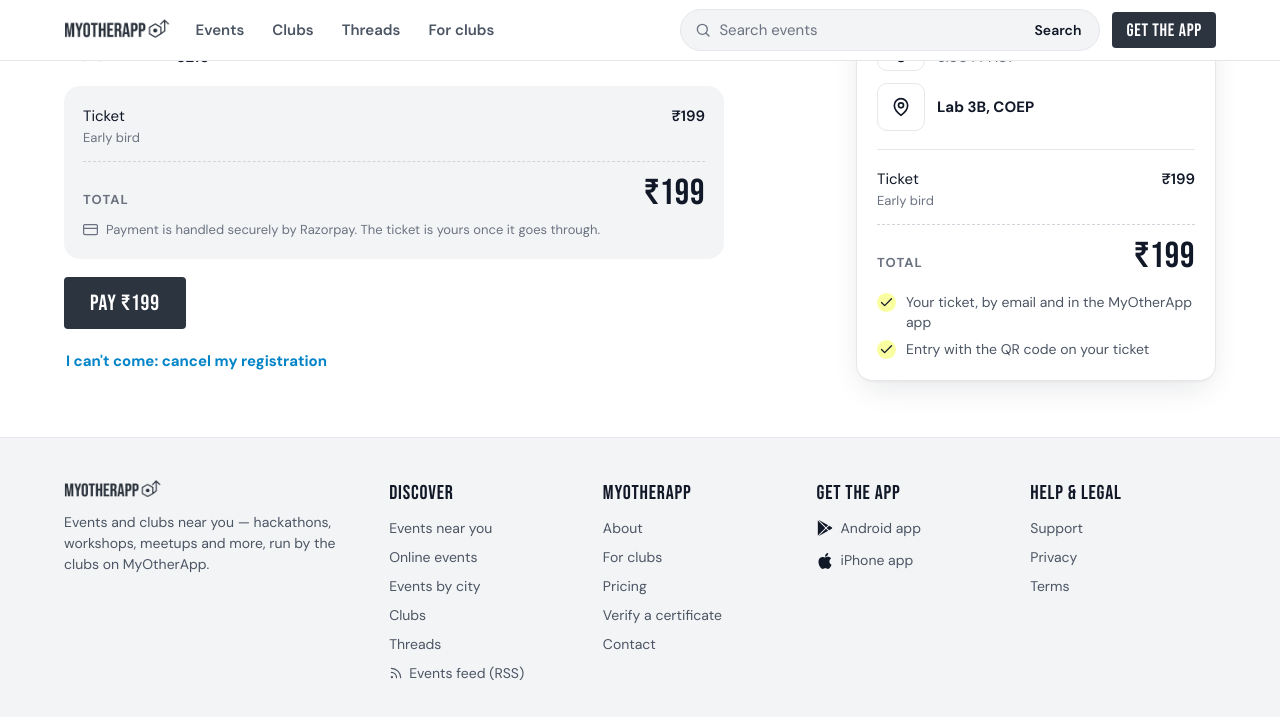
a registration the club confirmed (registration approval) › cancelling the registration asks first
The image size is (1280, 717).
(page scrolled)
Click the button "I can't come: cancel my registration": click(196, 361) x1=64 y1=341 x2=329 y2=381
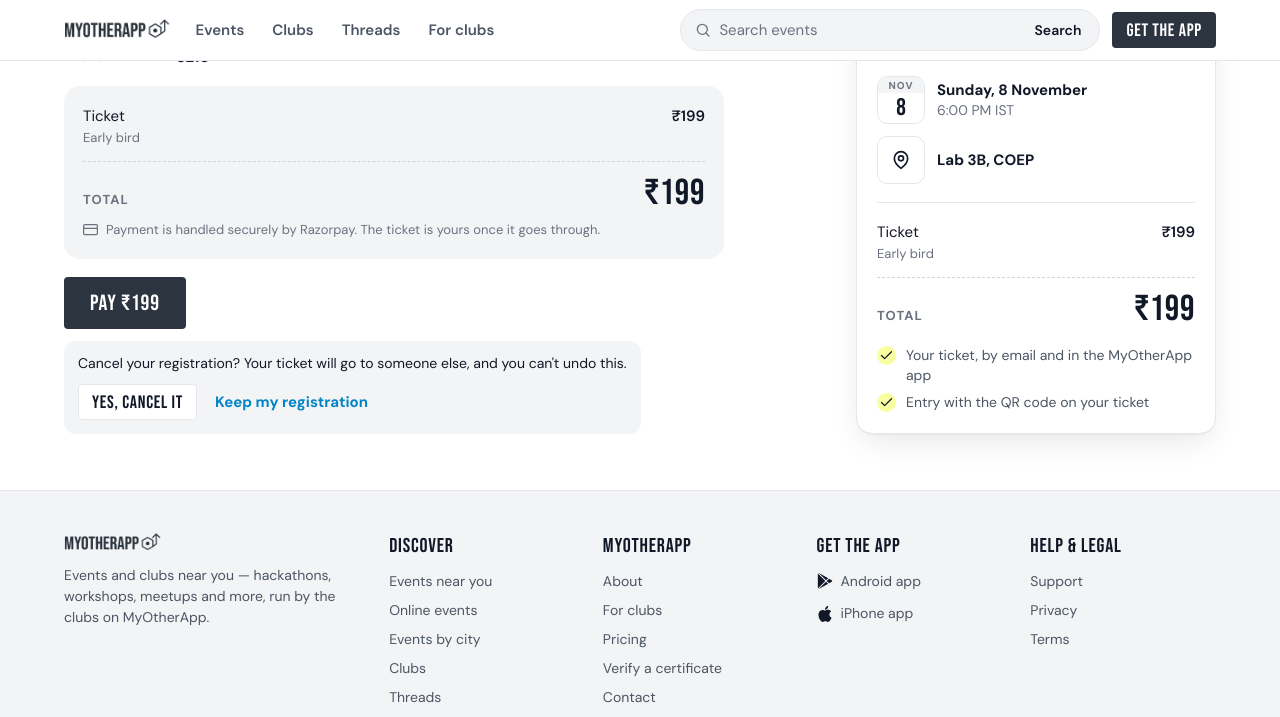
Result: the element "Cancel your registration" shows "Cancel your registration? Your ticket will go to someone else, and you can't undo this." at x1=78 y1=354 x2=627 y2=372
Result: the button "Keep my registration" is shown at x1=213 y1=382 x2=370 y2=422
Click the button "Yes, cancel it": click(138, 402) x1=78 y1=384 x2=197 y2=420
(page scrolled)
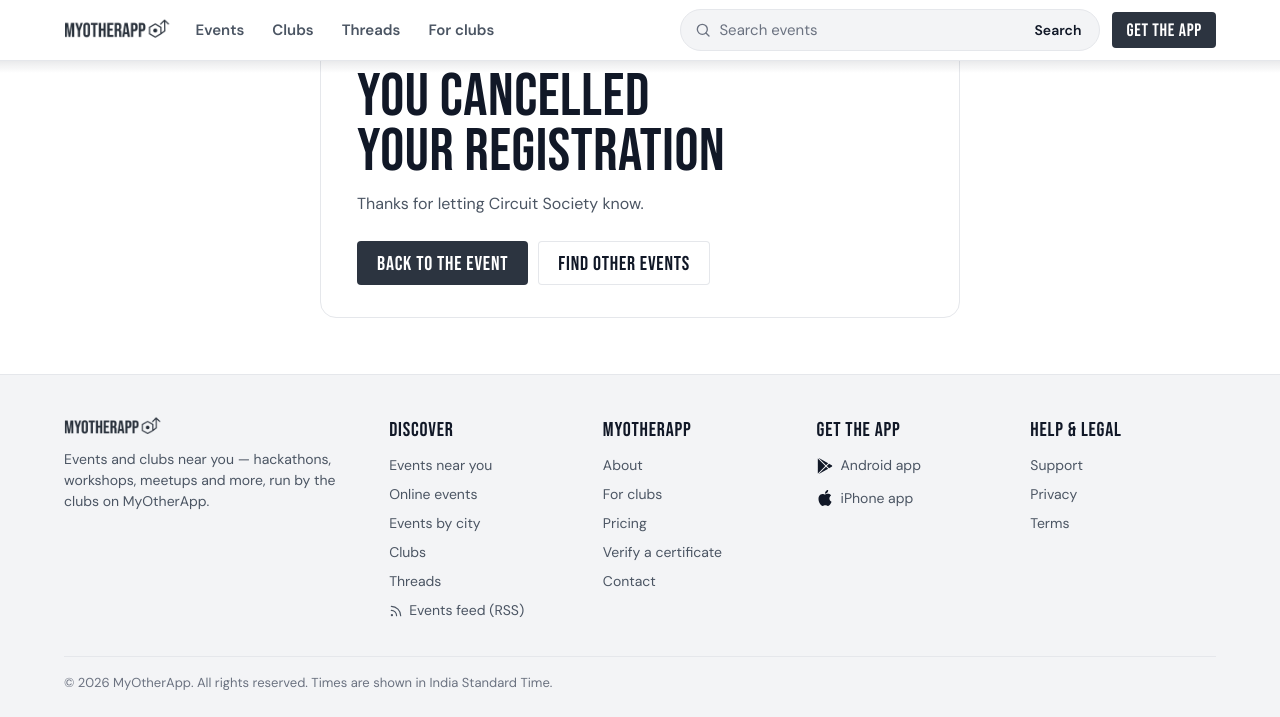
Result: the heading "You cancelled your registration" is shown at x1=357 y1=61 x2=725 y2=188
Result: the text "Thanks for letting Circuit Society know." is shown at x1=357 y1=193 x2=644 y2=214
